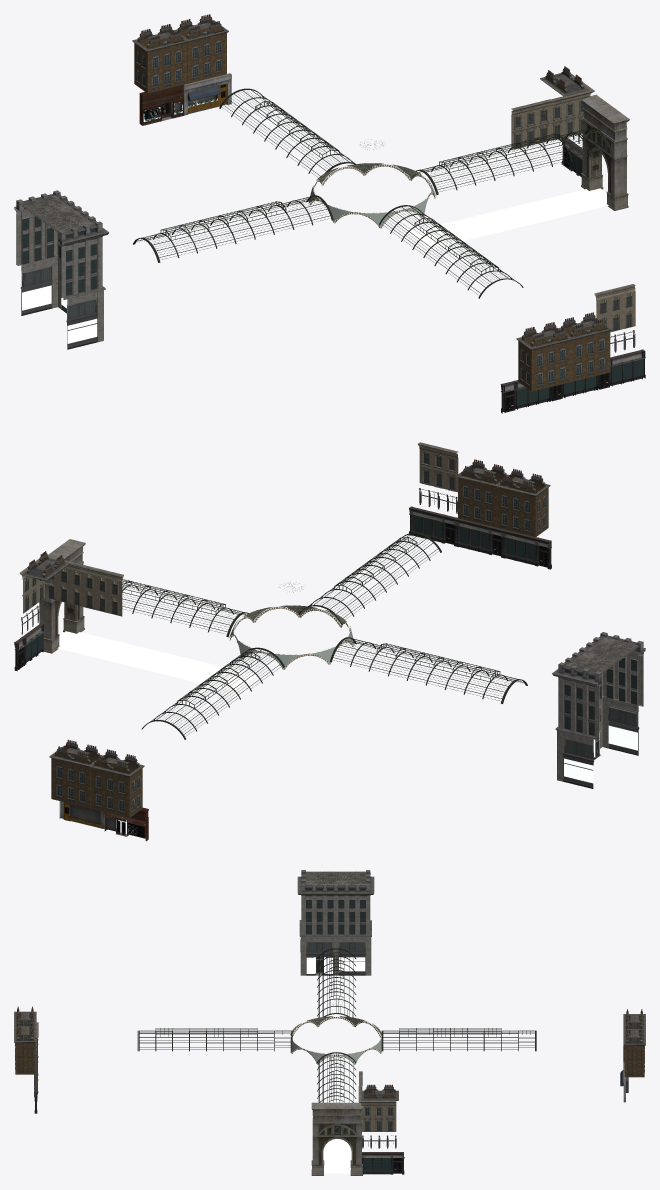
3 views of the same model, one above another, from view 1: azimuth 30°, elevation 25°; view 2: azimuth 150°, elevation 25°; view 3: azimuth 270°, elevation 25° (orthographic). The views are drawn at different scales.
Visible parts, largest first — view 1: LOD_1_Group_0_Sub_1__arcadetile04, LOD_1_Group_0_Sub_1__sm0012_arcadegate01_A_Mat, LOD_1_Group_0_Sub_1__building_new_02.002, LOD_1_Group_0_Sub_1__buildingBrick01_B.002, LOD_1_Group_0_Sub_1__buildingBrick01_B, LOD_1_Group_0_Sub_1__building_new_02, LOD_1_Group_0_Sub_2__glass.006, LOD_1_Group_0_Sub_2__glass.003, LOD_1_Group_0_Sub_1__buildingBrick01_B.001, LOD_1_Group_0_Sub_1__buildingBrick01_B.003, LOD_1_Group_0_Sub_2__glass.014, LOD_1_Group_0_Sub_2__glass.011 (+15 smaller); view 2: LOD_1_Group_0_Sub_1__arcadetile04, LOD_1_Group_0_Sub_1__building_new_02.002, LOD_1_Group_0_Sub_1__buildingBrick01_B, LOD_1_Group_0_Sub_1__buildingBrick01_B.002, LOD_1_Group_0_Sub_1__building_new_02, LOD_1_Group_0_Sub_2__glass.006, LOD_1_Group_0_Sub_1__buildingBrick01_B.001, LOD_1_Group_0_Sub_1__buildingBrick01_B.003, LOD_1_Group_0_Sub_1__sm0012_arcadegate01_A_Mat, LOD_1_Group_0_Sub_1__sm0007_buildingOld01_D_Mat, LOD_1_Group_0_Sub_2__glass.011, LOD_1_Group_0_Sub_2__glass.014 (+15 smaller); view 3: LOD_1_Group_0_Sub_1__sm0012_arcadegate01_A_Mat, LOD_1_Group_0_Sub_1__building_new_02.002, LOD_1_Group_0_Sub_1__building_new_02, LOD_1_Group_0_Sub_2__glass.011, LOD_1_Group_0_Sub_2__glass.014, LOD_1_Group_0_Sub_1__building_new_02.001, LOD_1_Group_0_Sub_2__glass.006, LOD_1_Group_0_Sub_1__sm0007_buildingOld01_D_Mat.001, LOD_1_Group_0_Sub_1__buildingBrick01_B.001, LOD_1_Group_0_Sub_1__buildingBrick01_B.003, LOD_1_Group_0_Sub_2__glass.003, LOD_1_Group_0_Sub_2__sm0010_arcaderoof_A_Mat (+7 smaller).
Boxes of the visible parts, left/top/right/bottom form: LOD_1_Group_0_Sub_1__arcadetile04: left=407, top=188, right=608, bottom=249; LOD_1_Group_0_Sub_1__sm0012_arcadegate01_A_Mat: left=581, top=94, right=629, bottom=210; LOD_1_Group_0_Sub_1__building_new_02.002: left=16, top=211, right=103, bottom=342; LOD_1_Group_0_Sub_1__buildingBrick01_B.002: left=516, top=322, right=572, bottom=391; LOD_1_Group_0_Sub_1__buildingBrick01_B: left=132, top=24, right=188, bottom=93; LOD_1_Group_0_Sub_1__building_new_02: left=20, top=208, right=98, bottom=323; LOD_1_Group_0_Sub_2__glass.006: left=133, top=200, right=313, bottom=262; LOD_1_Group_0_Sub_2__glass.003: left=416, top=132, right=591, bottom=195; LOD_1_Group_0_Sub_1__buildingBrick01_B.001: left=174, top=14, right=228, bottom=83; LOD_1_Group_0_Sub_1__buildingBrick01_B.003: left=557, top=312, right=612, bottom=381; LOD_1_Group_0_Sub_2__glass.014: left=390, top=214, right=523, bottom=298; LOD_1_Group_0_Sub_2__glass.011: left=231, top=97, right=355, bottom=177; LOD_1_Group_0_Sub_1__arcadetile04: left=57, top=631, right=256, bottom=691; LOD_1_Group_0_Sub_1__building_new_02.002: left=557, top=652, right=643, bottom=781; LOD_1_Group_0_Sub_1__buildingBrick01_B: left=88, top=749, right=144, bottom=817; LOD_1_Group_0_Sub_1__buildingBrick01_B.002: left=495, top=468, right=550, bottom=536; LOD_1_Group_0_Sub_1__building_new_02: left=562, top=649, right=639, bottom=762; LOD_1_Group_0_Sub_2__glass.006: left=350, top=642, right=527, bottom=703; LOD_1_Group_0_Sub_1__buildingBrick01_B.001: left=49, top=739, right=103, bottom=808; LOD_1_Group_0_Sub_1__buildingBrick01_B.003: left=456, top=459, right=509, bottom=527; LOD_1_Group_0_Sub_1__sm0012_arcadegate01_A_Mat: left=39, top=539, right=85, bottom=653; LOD_1_Group_0_Sub_1__sm0007_buildingOld01_D_Mat: left=418, top=442, right=458, bottom=513; LOD_1_Group_0_Sub_2__glass.011: left=153, top=647, right=284, bottom=731; LOD_1_Group_0_Sub_2__glass.014: left=310, top=532, right=441, bottom=616; LOD_1_Group_0_Sub_1__sm0012_arcadegate01_A_Mat: left=311, top=1102, right=363, bottom=1175; LOD_1_Group_0_Sub_1__building_new_02.002: left=300, top=895, right=371, bottom=975; LOD_1_Group_0_Sub_1__building_new_02: left=300, top=888, right=366, bottom=955; LOD_1_Group_0_Sub_2__glass.011: left=381, top=1028, right=518, bottom=1051; LOD_1_Group_0_Sub_2__glass.014: left=137, top=1028, right=274, bottom=1051; LOD_1_Group_0_Sub_1__building_new_02.001: left=297, top=870, right=374, bottom=936; LOD_1_Group_0_Sub_2__glass.006: left=317, top=948, right=356, bottom=1016; LOD_1_Group_0_Sub_1__sm0007_buildingOld01_D_Mat.001: left=358, top=1086, right=396, bottom=1131; LOD_1_Group_0_Sub_1__buildingBrick01_B.001: left=623, top=1024, right=645, bottom=1077; LOD_1_Group_0_Sub_1__buildingBrick01_B.003: left=14, top=1021, right=35, bottom=1074; LOD_1_Group_0_Sub_2__glass.003: left=317, top=1052, right=356, bottom=1102; LOD_1_Group_0_Sub_2__sm0010_arcaderoof_A_Mat: left=290, top=998, right=382, bottom=1064.
Size of the model in its own units: 12146 by 2406 by 15094.
